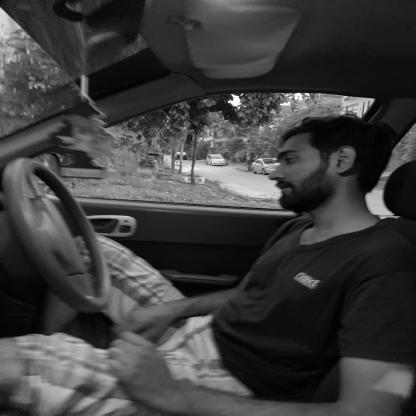no-seatbelt: (245, 91, 373, 354)
